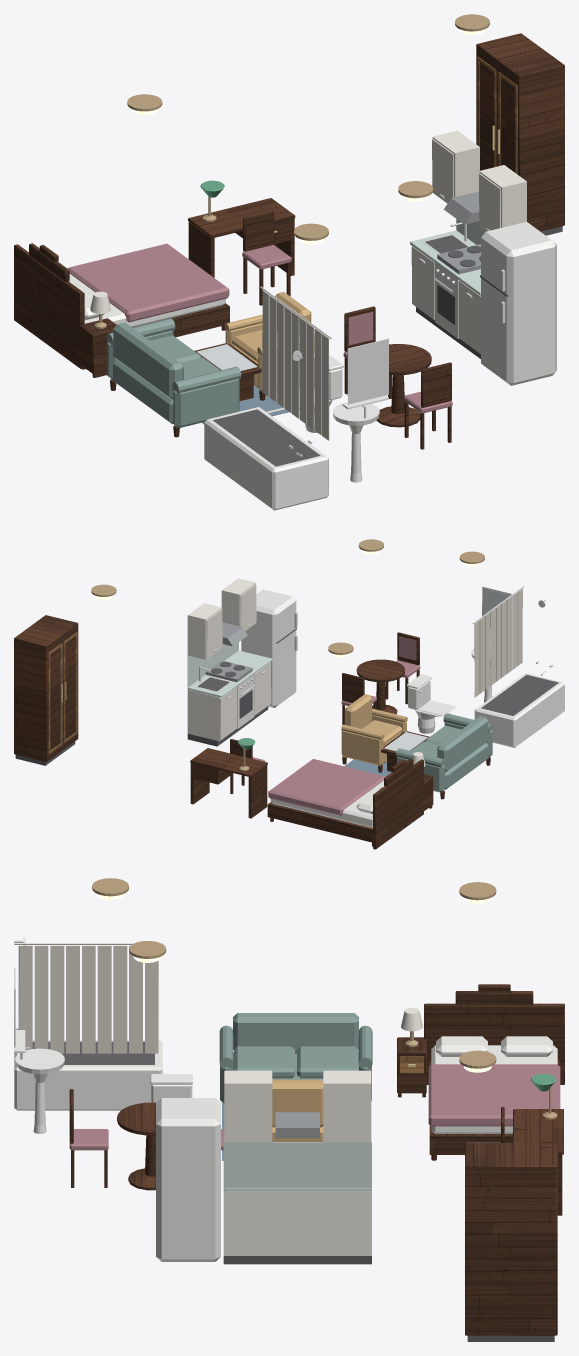
The model's file is apt_back.glb.
3 renders of one model, top to bottom at view 1: azimuth 30°, elevation 25°; view 2: azimuth 150°, elevation 25°; view 3: azimuth 270°, elevation 25°, orthographic. The views are drawn at different scales.
Visible parts, largest first — view 1: apt_back_dkwood, apt_back_appliance, apt_back_fabric, apt_back_fabric3, apt_back_cream, apt_back_porcelain, apt_back_cloth, apt_back_dark, apt_back_chrome, apt_back_bronze, apt_back_fabric2, apt_back_steel (+5 smaller); view 2: apt_back_dkwood, apt_back_cream, apt_back_appliance, apt_back_fabric3, apt_back_porcelain, apt_back_fabric, apt_back_cloth, apt_back_dark, apt_back_fabric2, apt_back_tile_k, apt_back_wood, apt_back_linen (+5 smaller); view 3: apt_back_dkwood, apt_back_cream, apt_back_cloth, apt_back_appliance, apt_back_fabric, apt_back_porcelain, apt_back_fabric3, apt_back_tile_k, apt_back_linen, apt_back_dark, apt_back_bronze, apt_back_fabric2 (+1 smaller).
Part boxes in pixels (<box>): apt_back_dkwood: <box>14,33,564,449</box>; apt_back_appliance: <box>435,221,556,385</box>; apt_back_fabric: <box>106,318,241,427</box>; apt_back_fabric3: <box>68,243,452,413</box>; apt_back_cream: <box>90,130,526,413</box>; apt_back_porcelain: <box>204,353,388,510</box>; apt_back_cloth: <box>262,290,329,440</box>; apt_back_dark: <box>213,63,562,466</box>; apt_back_chrome: <box>260,194,505,456</box>; apt_back_bronze: <box>94,14,489,328</box>; apt_back_fabric2: <box>224,292,314,390</box>; apt_back_steel: <box>437,191,480,274</box>; apt_back_dkwood: <box>14,615,490,849</box>; apt_back_cream: <box>187,578,425,766</box>; apt_back_appliance: <box>237,589,296,728</box>; apt_back_fabric3: <box>252,636,420,815</box>; apt_back_porcelain: <box>407,631,564,747</box>; apt_back_fabric: <box>395,713,493,792</box>; apt_back_cloth: <box>474,588,522,697</box>; apt_back_dark: <box>15,628,558,765</box>; apt_back_fabric2: <box>341,694,407,765</box>; apt_back_tile_k: <box>187,642,272,697</box>; apt_back_wood: <box>48,632,77,754</box>; apt_back_linen: <box>270,780,384,827</box>; apt_back_dkwood: <box>69,984,564,1335</box>; apt_back_cream: <box>223,1007,422,1255</box>; apt_back_cloth: <box>18,945,158,1053</box>; apt_back_appliance: <box>156,1098,220,1261</box>; apt_back_fabric: <box>219,1013,372,1103</box>; apt_back_porcelain: <box>14,1030,192,1133</box>; apt_back_fabric3: <box>69,1064,560,1150</box>; apt_back_tile_k: <box>223,1142,371,1191</box>; apt_back_linen: <box>431,1036,557,1133</box>; apt_back_dark: <box>32,1041,554,1341</box>; apt_back_bronze: <box>92,878,557,1119</box>; apt_back_fabric2: <box>272,1079,323,1141</box>.
Bounding box in the file's own units: 6.64 × 2.85 × 5.94.
20 materials, 2 textured.
